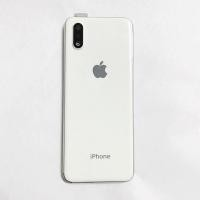Phone: (60, 14, 138, 186)
